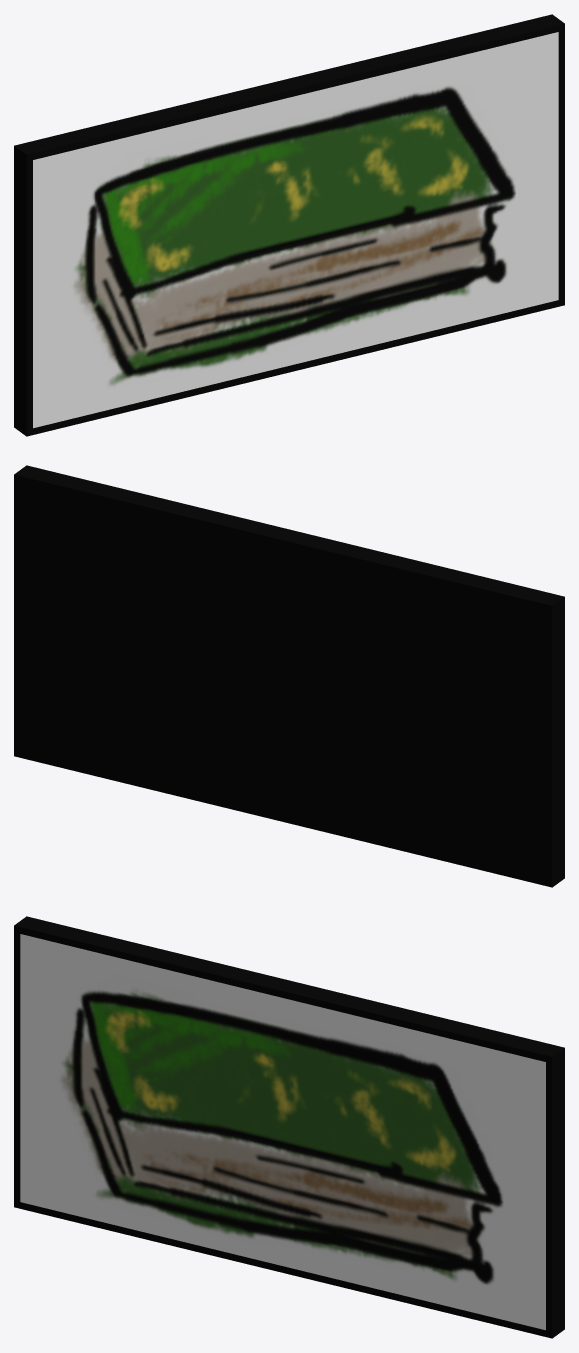
Rendered from mdl_poland_fiat_item3.gltf.
3 renders of one model, top to bottom at view 1: azimuth 30°, elevation 25°; view 2: azimuth 150°, elevation 25°; view 3: azimuth 330°, elevation 25°, orthographic.
Visible parts, largest first — view 1: Plane.003; view 2: Plane.003; view 3: Plane.003.
Boxes of the visible parts, x1,y1,x2,y2 form: Plane.003: (14, 14, 564, 436); Plane.003: (14, 465, 564, 887); Plane.003: (14, 916, 564, 1338).
Bounding box in the file's own units: 0.8 × 0.4 × 0.0326.
2 materials, 2 textured.
